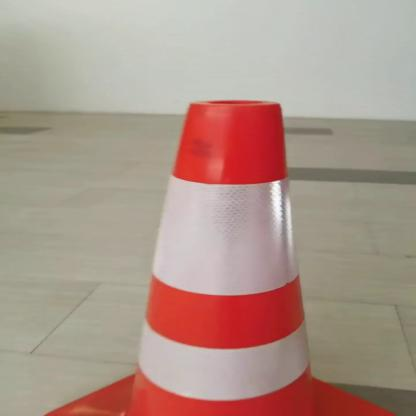cone: (29, 90, 405, 416)
